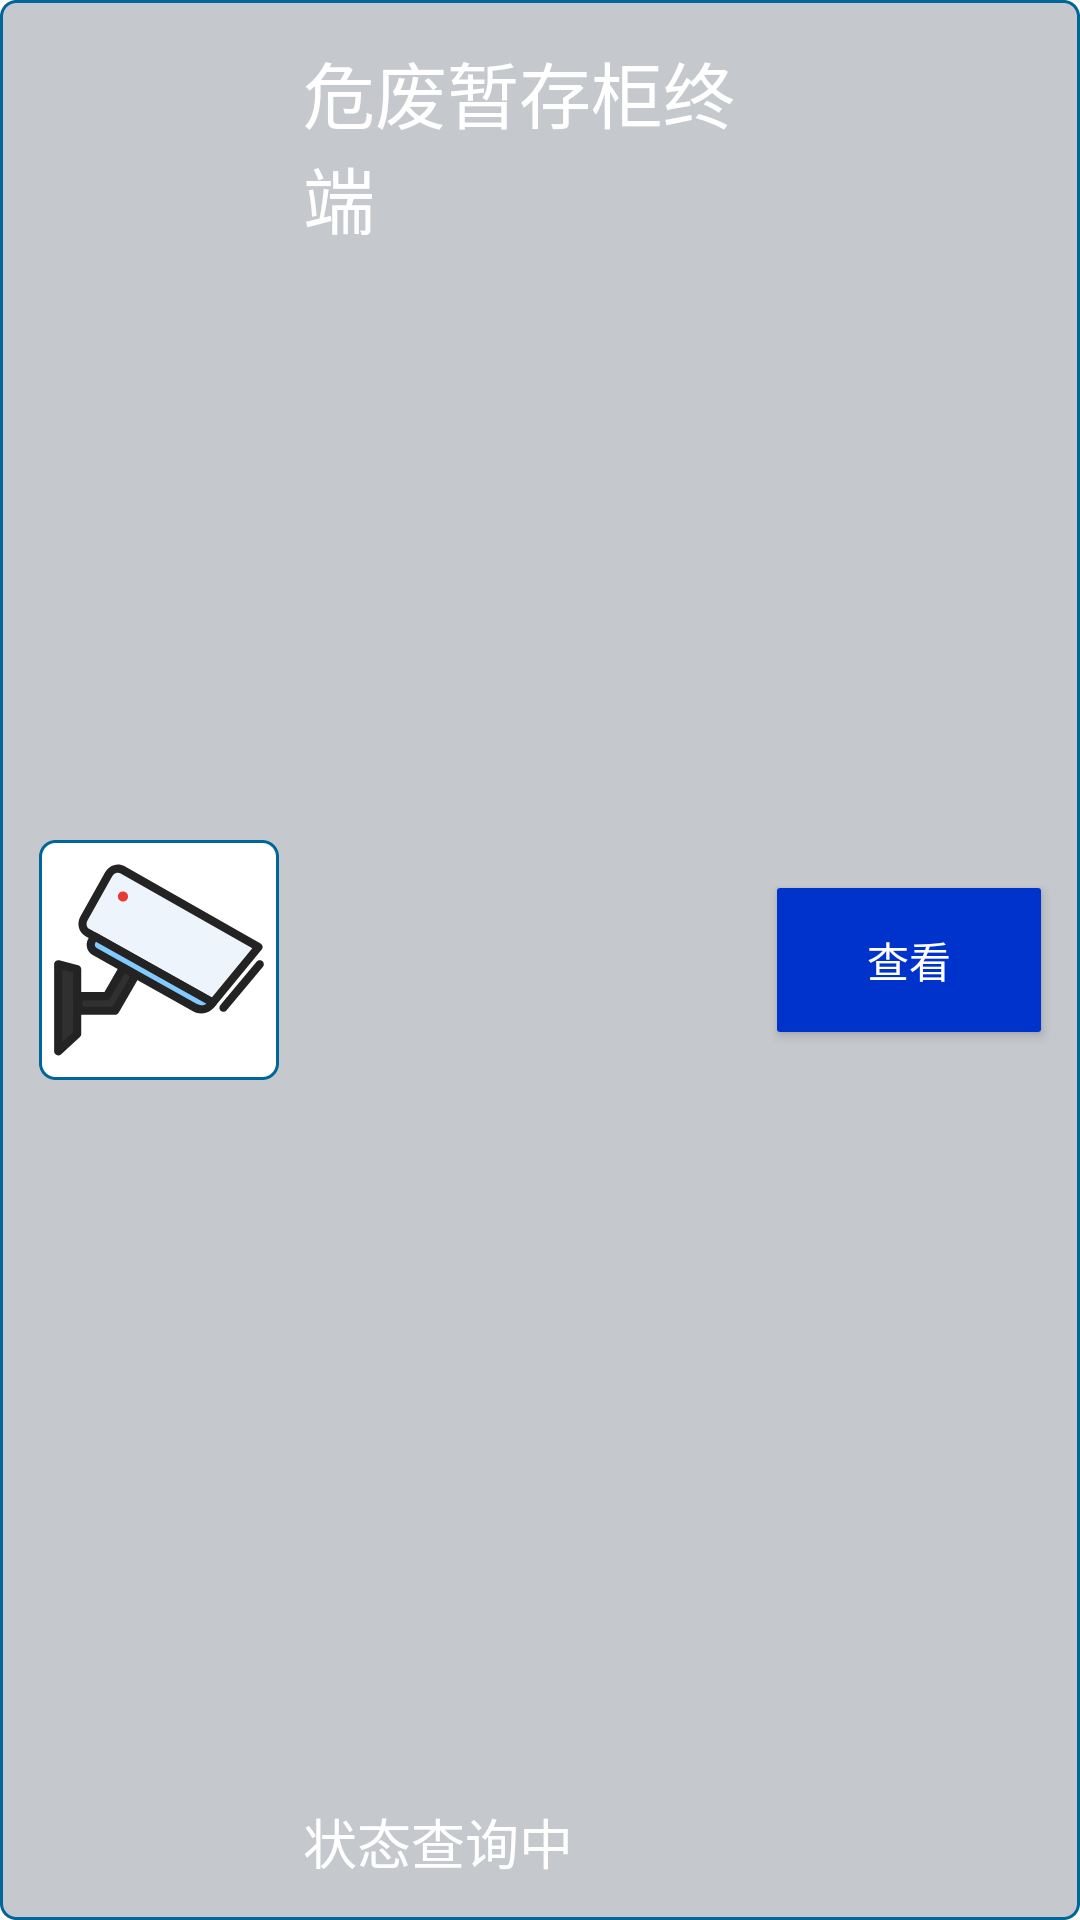

Icons on this 1080px×1920px Android screen, each with its box as [left=x1, top=y1, right=x2, bottom=y2]:
camera: [left=39, top=840, right=279, bottom=1080]
